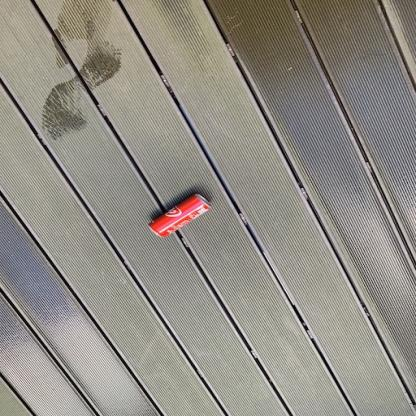trash: (148, 191, 213, 241)
